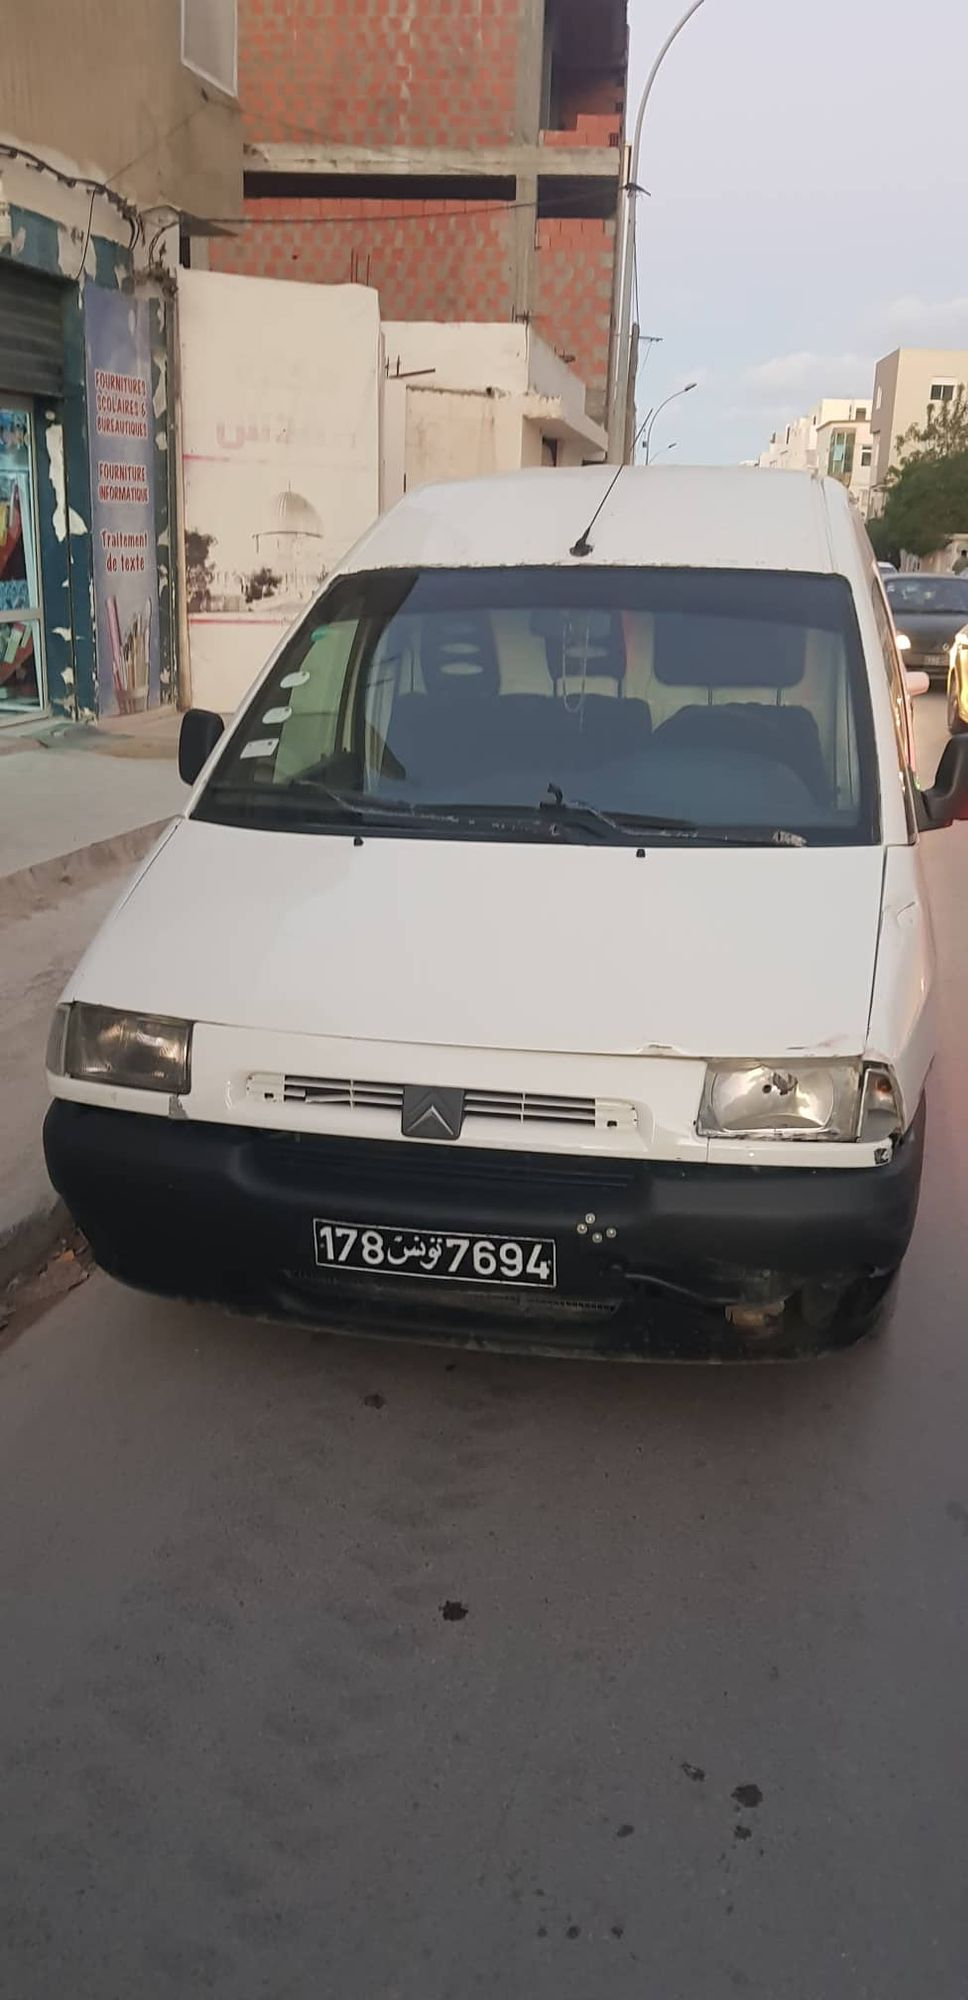LP: (308, 1219, 566, 1287)
